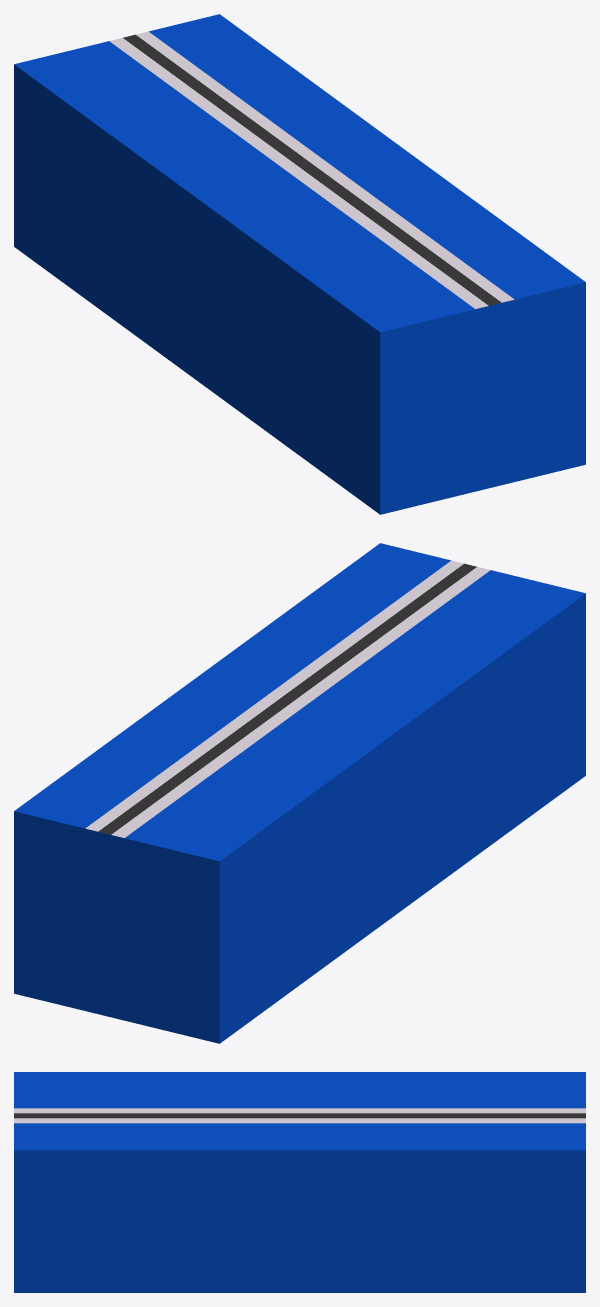
The model's file is Bluebag.fbx.
3 renders of one model, top to bottom at view 1: azimuth 30°, elevation 25°; view 2: azimuth 150°, elevation 25°; view 3: azimuth 270°, elevation 25°, orthographic. The views are drawn at different scales.
Parts seen in each view (by area): view 1: Cube; view 2: Cube; view 3: Cube.
Part boxes in pixels (left/top/right/bottom): Cube: left=14, top=14, right=585, bottom=514; Cube: left=14, top=543, right=585, bottom=1043; Cube: left=14, top=1072, right=585, bottom=1292.
Size of the model in its own units: 133 by 113 by 410.
